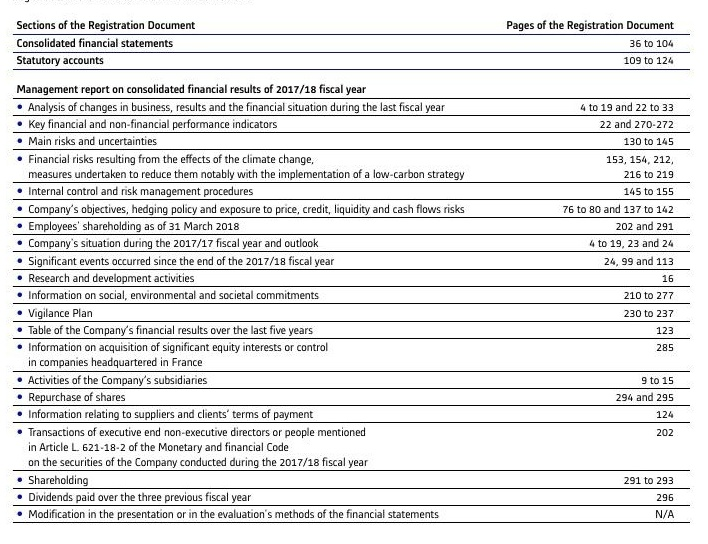table: (0, 0, 708, 544)
